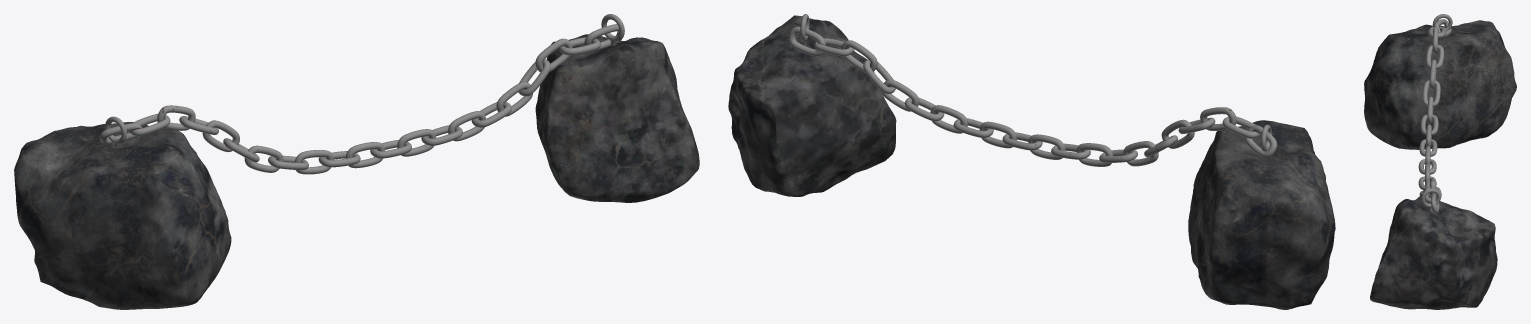
The model's file is stone_chain_barrier_1d8c2ed1.glb.
3 renders of one model, left to right at view 1: azimuth 30°, elevation 25°; view 2: azimuth 150°, elevation 25°; view 3: azimuth 270°, elevation 25°, orthographic. The views are drawn at different scales.
Parts seen in each view (by area): view 1: Chain Rock.001, Chain Rock.002, BézierCurve; view 2: Chain Rock.001, Chain Rock.002, BézierCurve; view 3: Chain Rock.001, Chain Rock.002, BézierCurve, Chain Rock.002.Ring, Chain Rock.001.Ring.
Part boxes in pixels (x1,y1,x2,y2): Chain Rock.001: (14,122,231,309); Chain Rock.002: (535,34,699,202); BézierCurve: (100,24,621,174); Chain Rock.001: (1188,120,1335,309); Chain Rock.002: (728,15,896,196); BézierCurve: (788,26,1277,166); Chain Rock.001: (1364,20,1516,149); Chain Rock.002: (1370,194,1497,309); BézierCurve: (1418,19,1451,214); Chain Rock.002.Ring: (1421,188,1440,211); Chain Rock.001.Ring: (1432,14,1452,30).
Size of the model in its own units: 2.34 by 0.6427 by 0.7008.
Materials: 5 (5 with a texture image).
